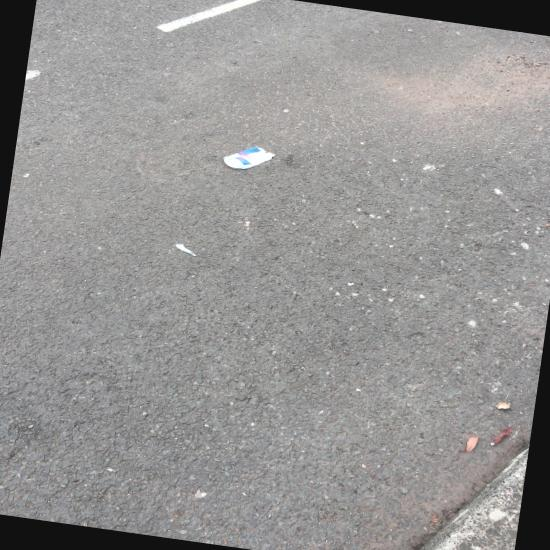Drink can: (223, 146, 275, 169)
Unlabeled litter: (175, 243, 196, 256)
